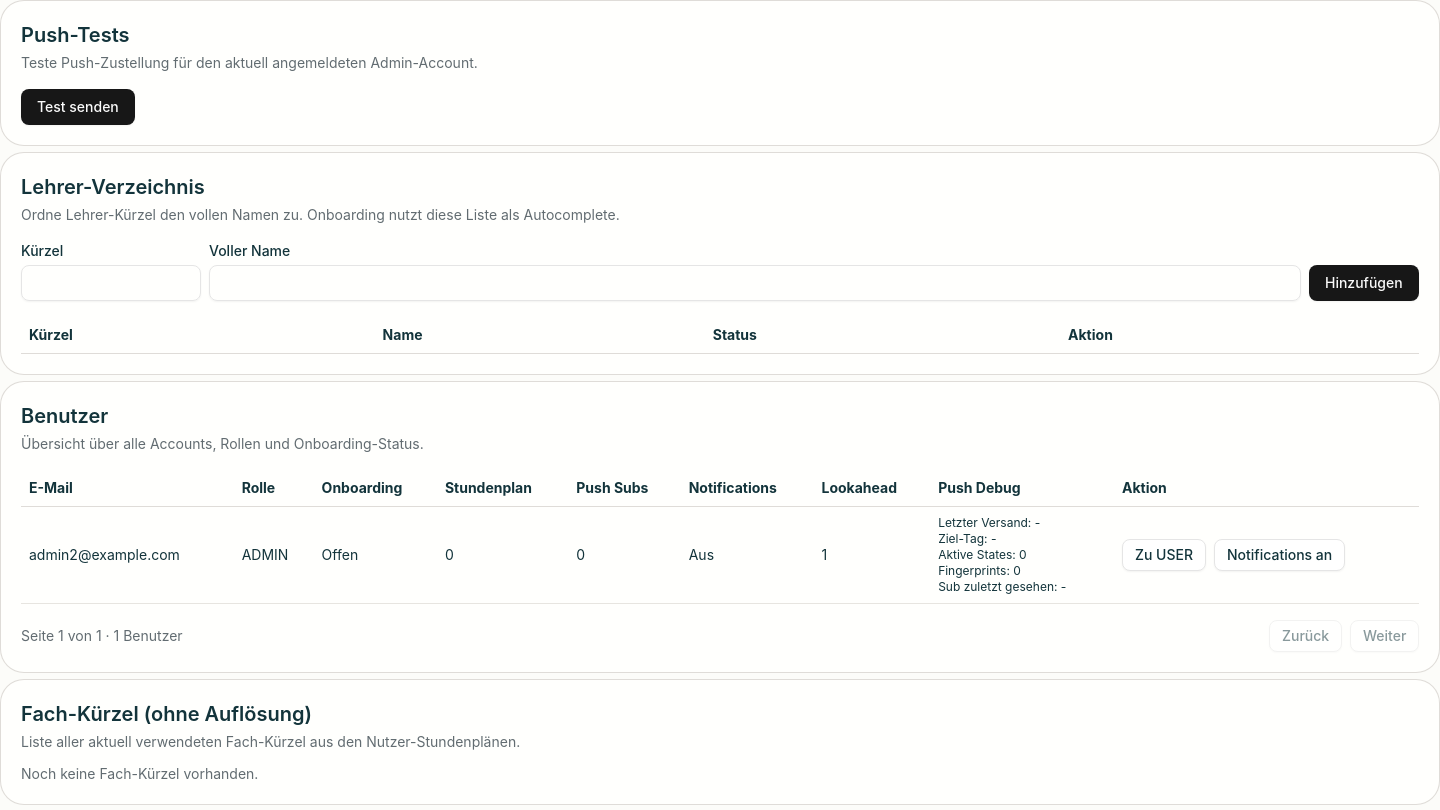
Test: AdminPanel role demotion confirmation › shows API errors inside dialog
Click the button "Zu USER" at (1164, 555), box [1122,539,1206,571]
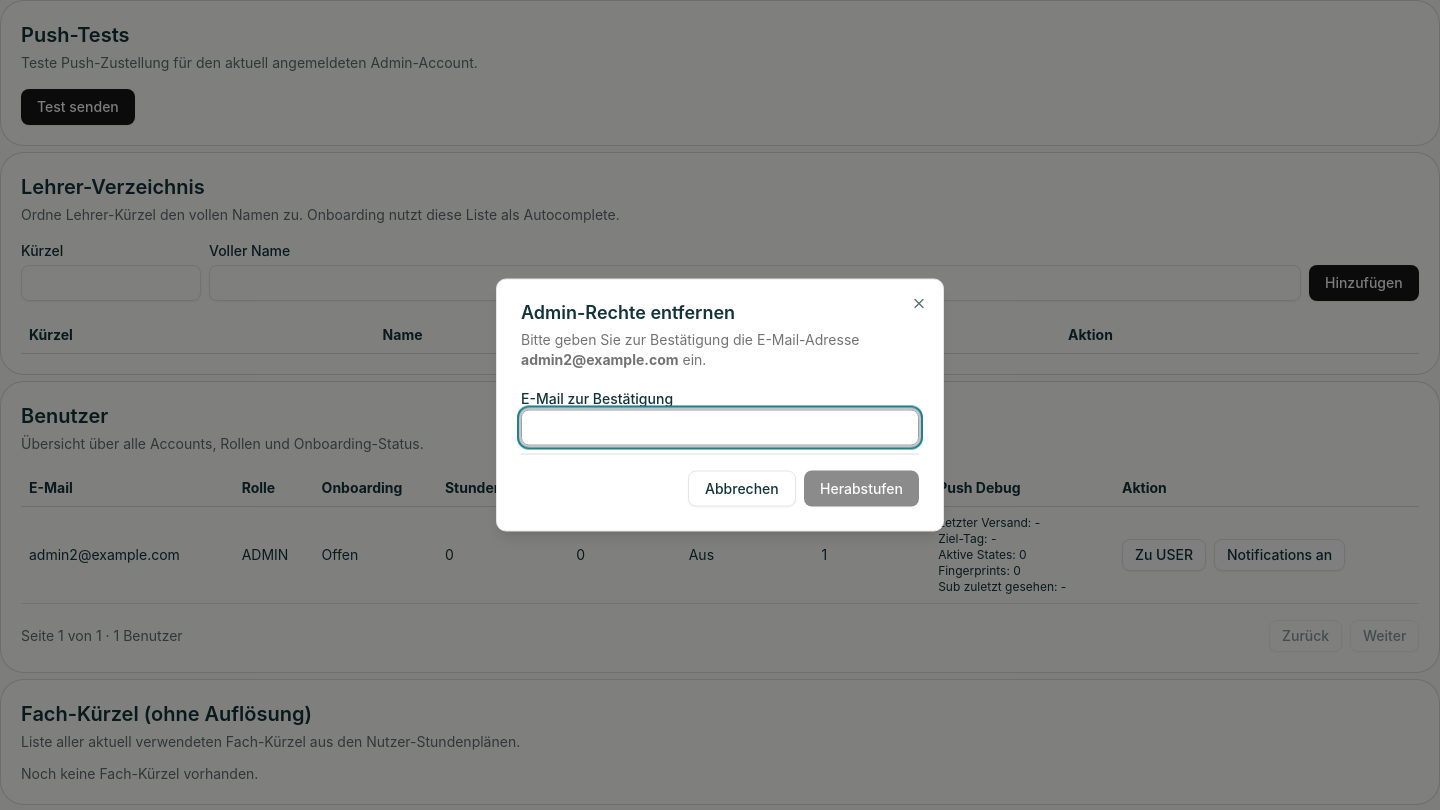
Type "admin2@example.com" into the field labelled "E-Mail zur Bestätigung" at (720, 428), box [521,410,919,446]
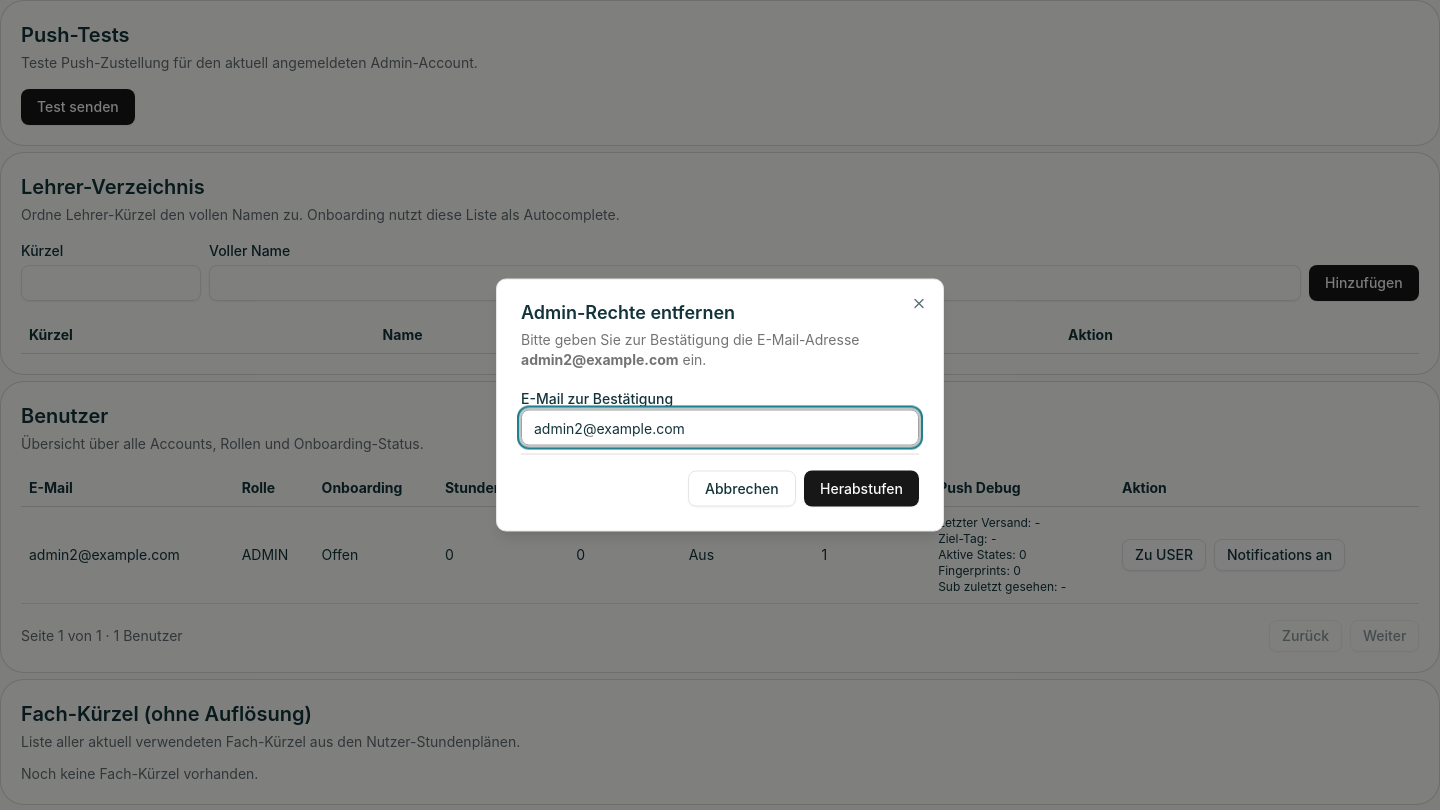
Click the button "Herabstufen" at (862, 488), box [804,470,919,506]
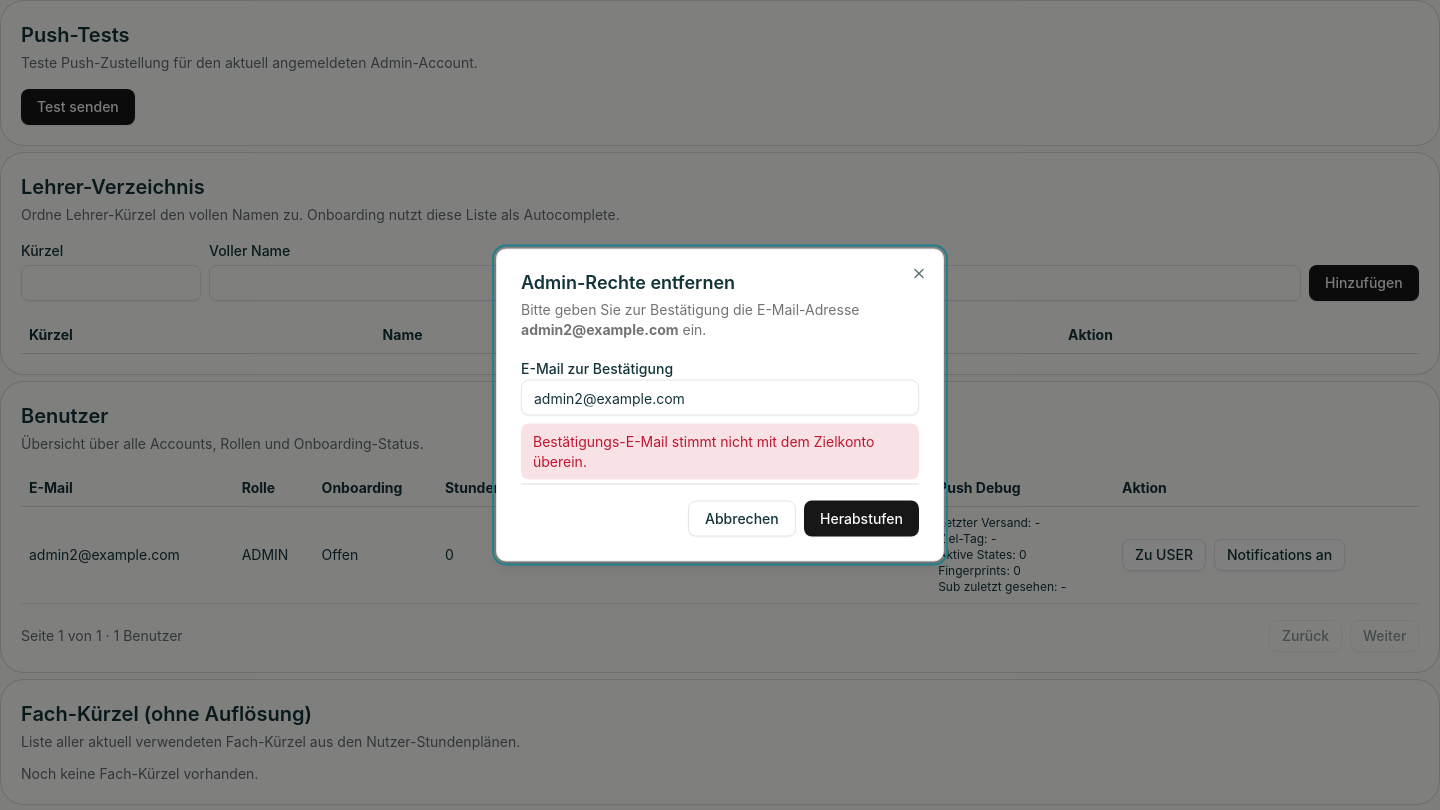
Result: the text "Bestätigungs-E-Mail stimmt nicht mit dem Zielkonto überein." is shown at [521,424,919,480]
